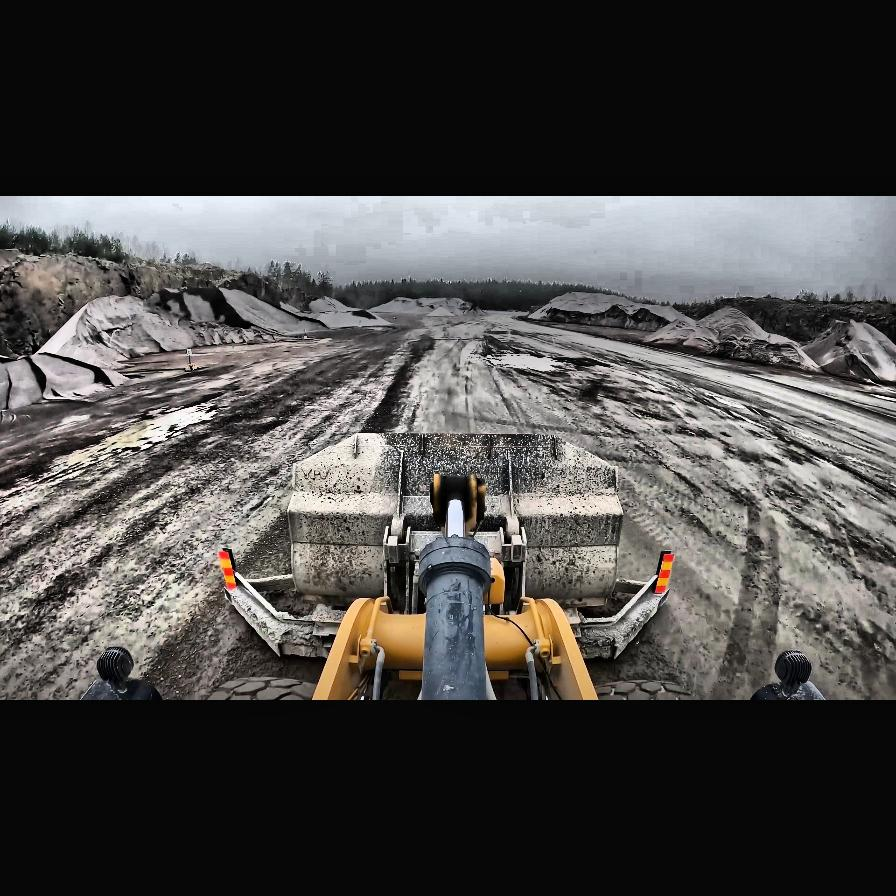anchor: (432, 474, 486, 534)
pile of gravel: (27, 284, 351, 368), (637, 303, 829, 377), (1, 350, 131, 412), (800, 318, 896, 388), (539, 292, 677, 330), (368, 296, 484, 316), (650, 322, 714, 350), (308, 297, 356, 313), (527, 302, 557, 320), (350, 310, 380, 320)
